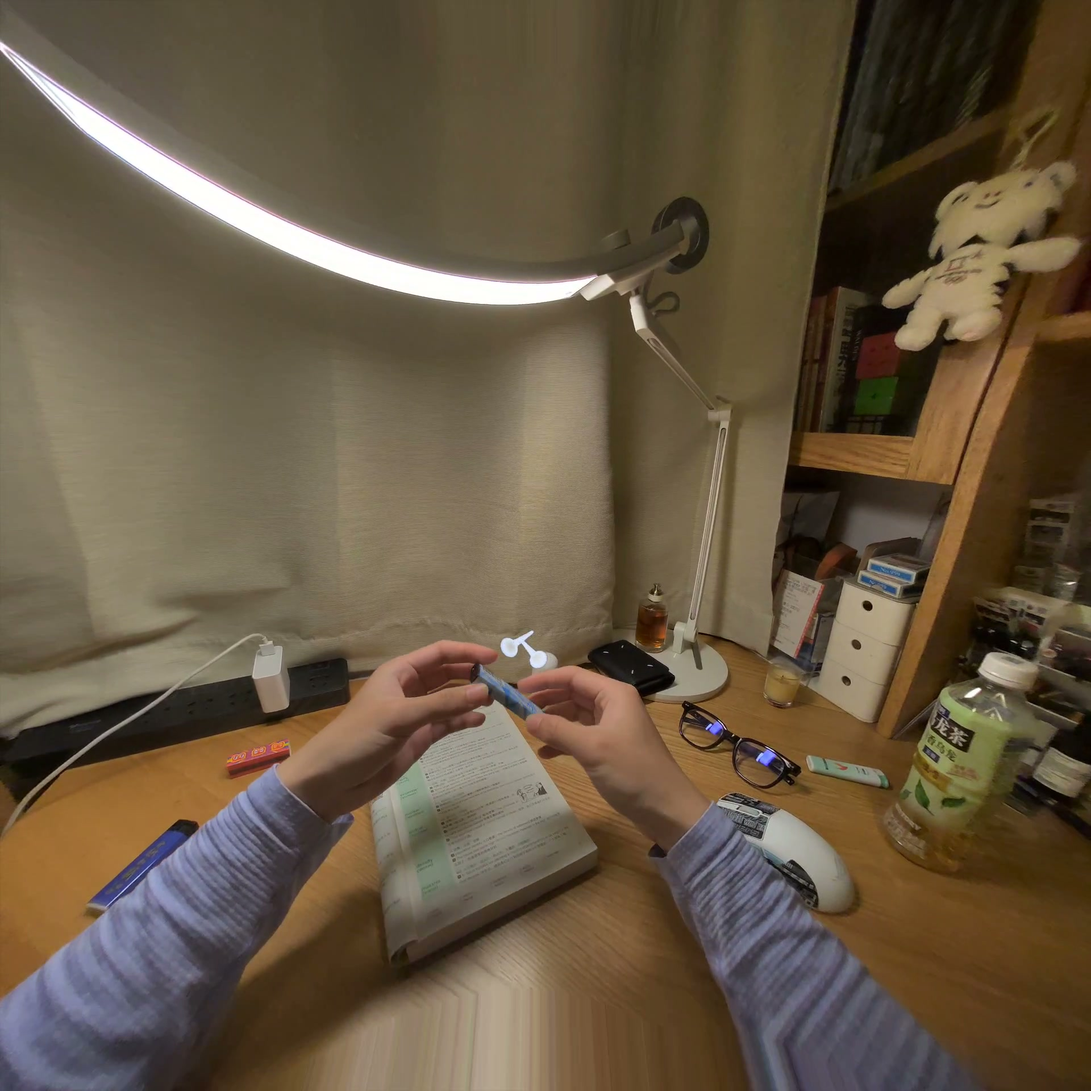lighter: (471, 664, 540, 720)
